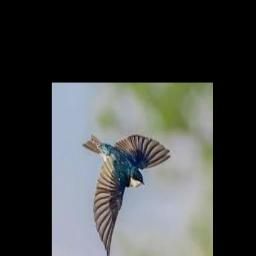Swallow: (82, 133, 171, 256)
